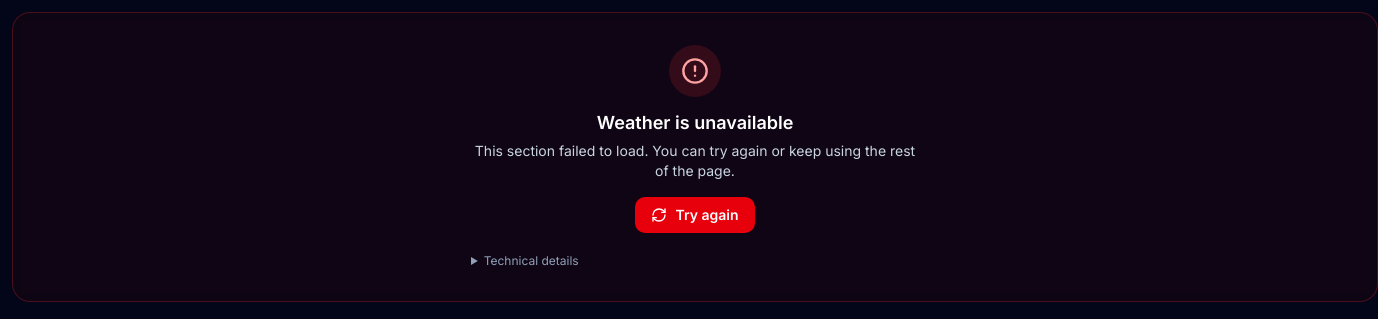
Test: ErrorBoundary › shows the default ErrorState and recovers after 'Try again'
The image size is (1378, 319).
expect the heading "Weather is unavailable" is shown: met, box top-left (597, 112), bottom-right (793, 133)
What coordinates should you click on to do the following:
click the button "Try again"
I would click on:
 (695, 215)
Its box is top-left (636, 197), bottom-right (755, 233).
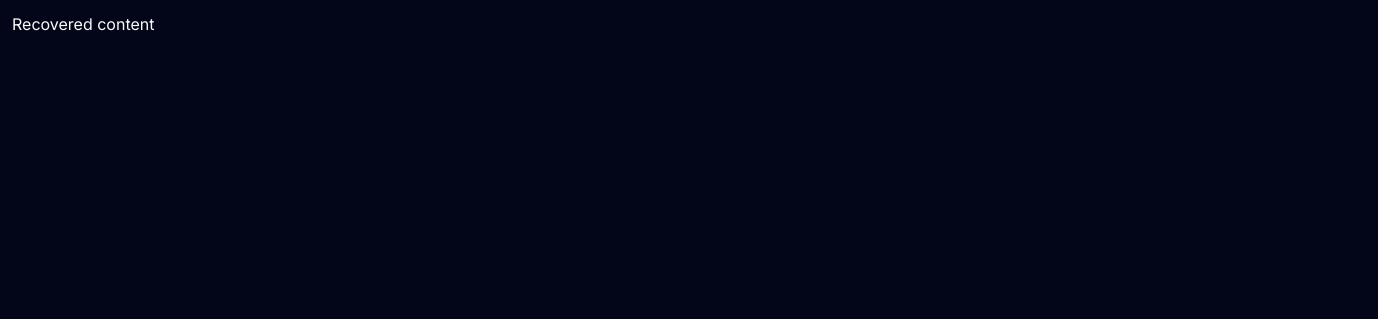
expect the text "Recovered content" is shown: met, box top-left (12, 14), bottom-right (154, 34)
expect the message is gone: met
